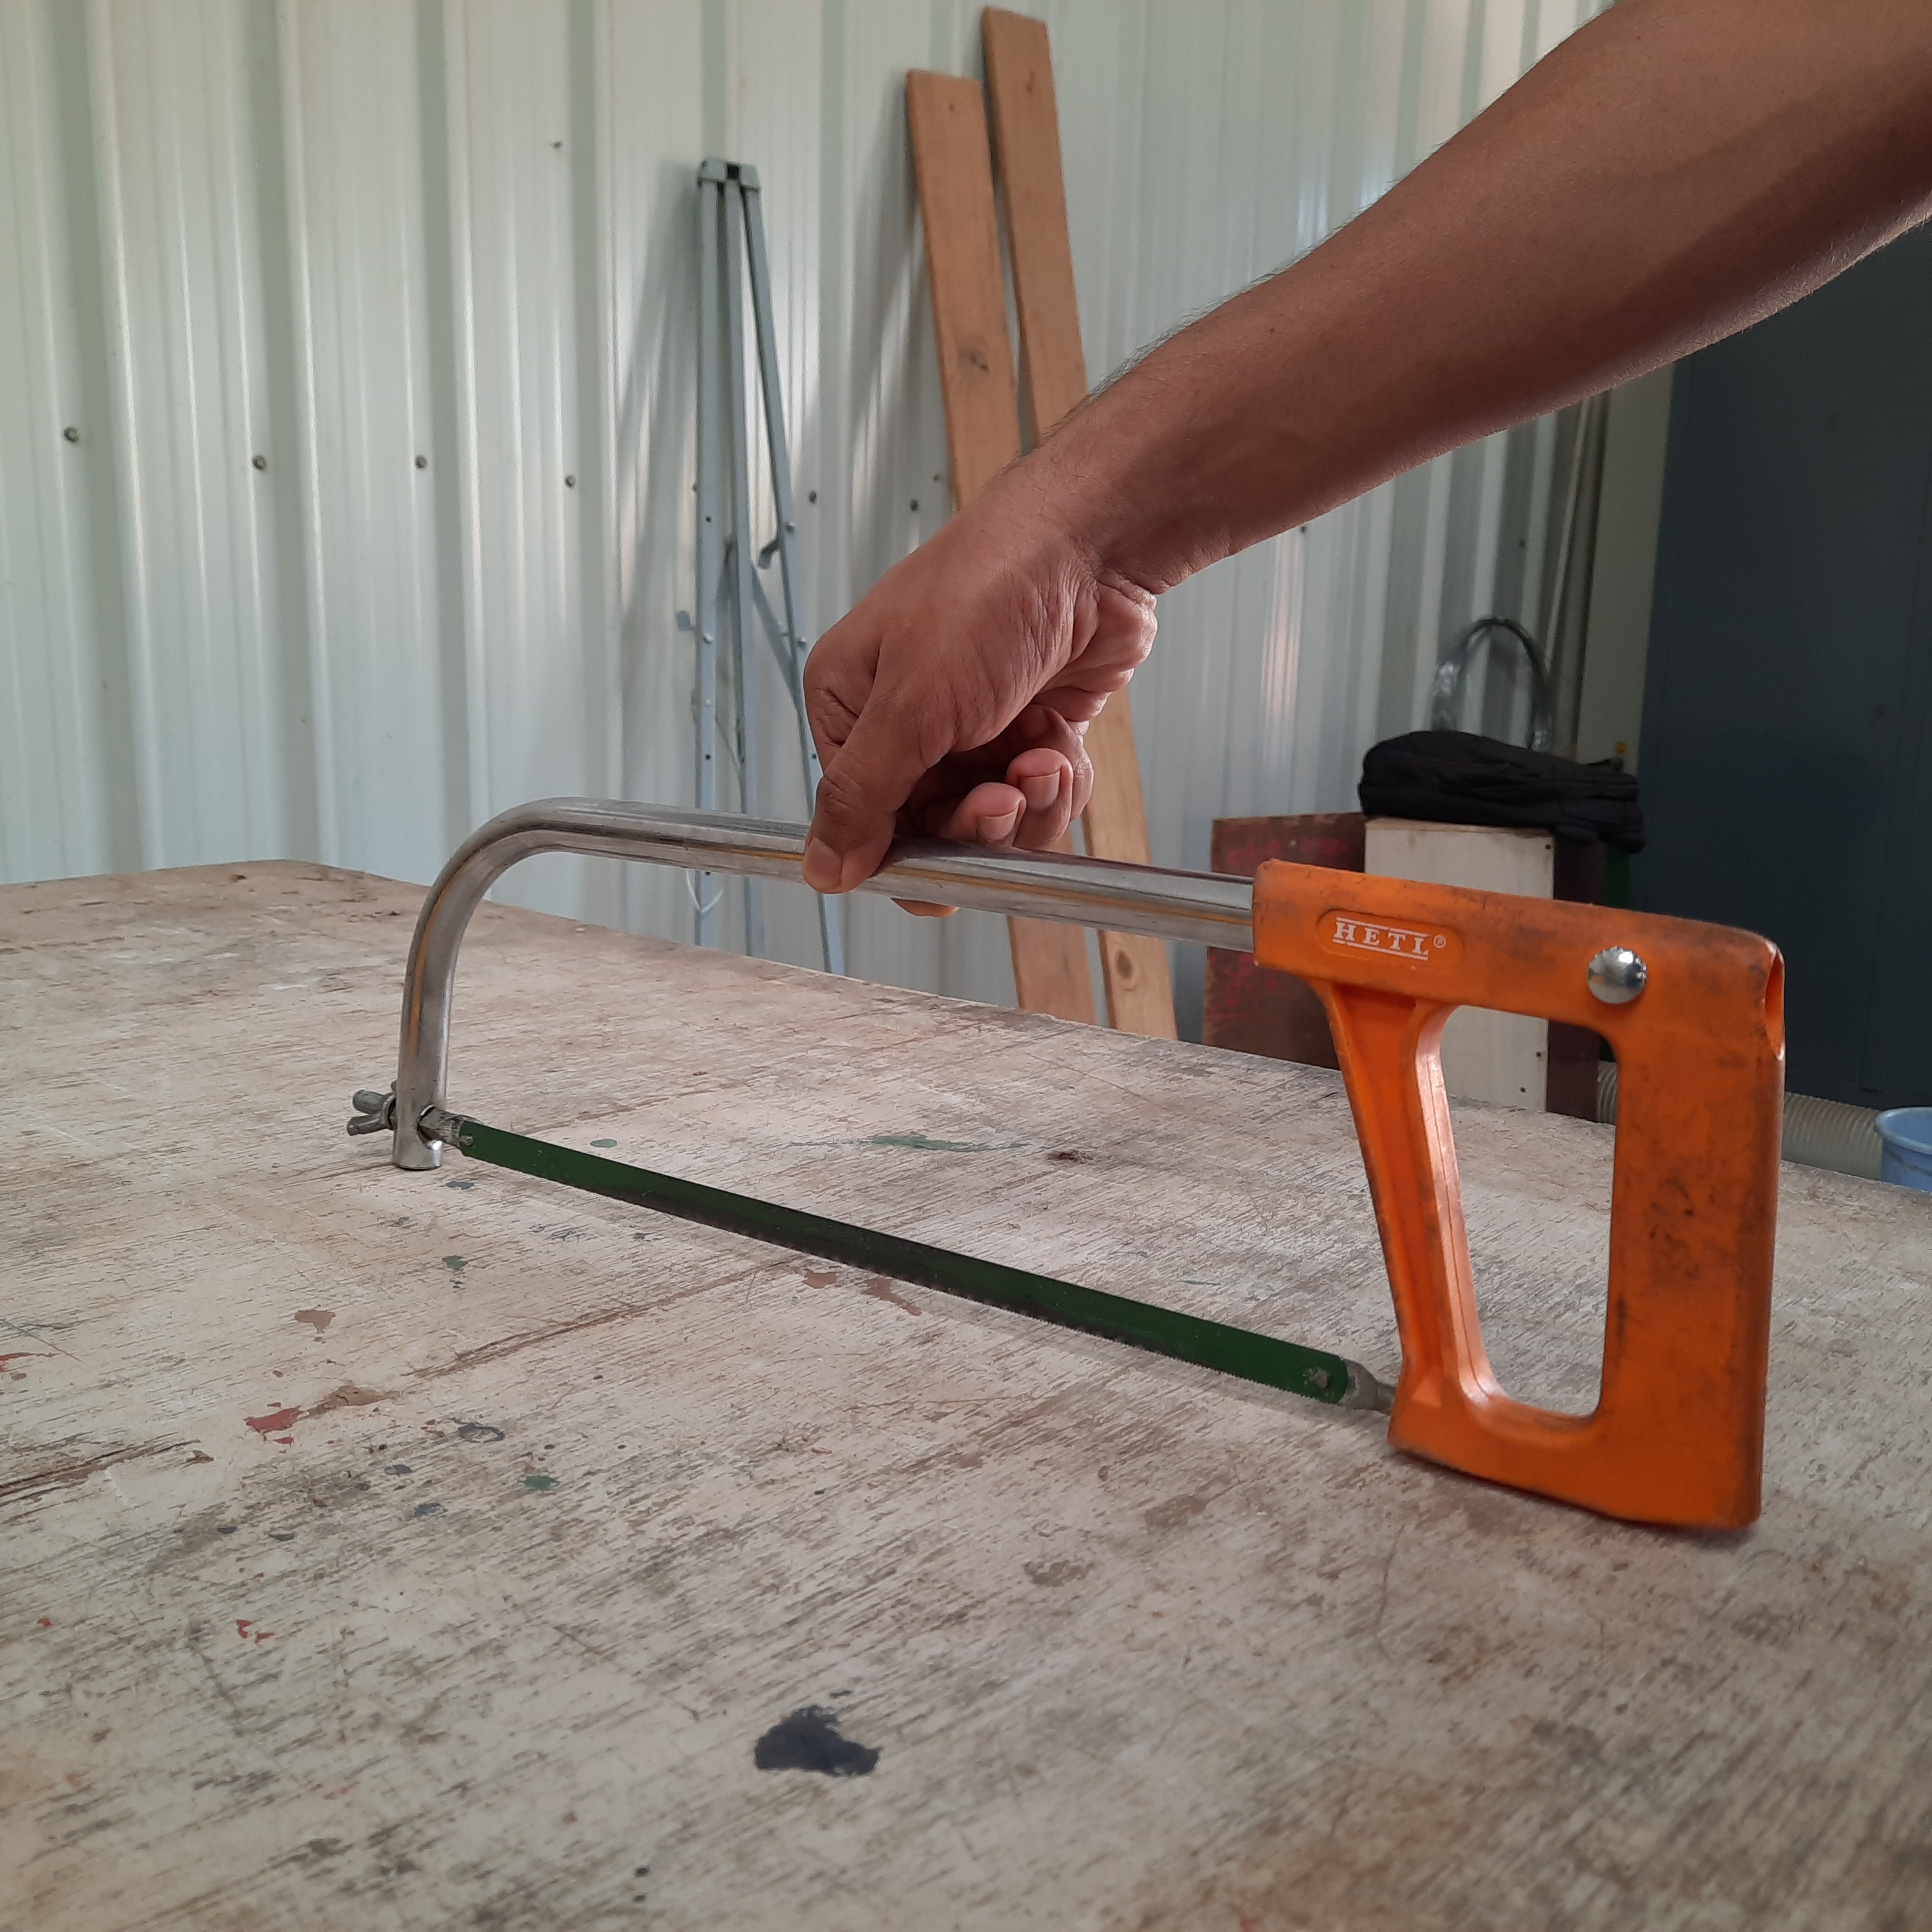Hexaframe: (299, 745, 1801, 1550)
